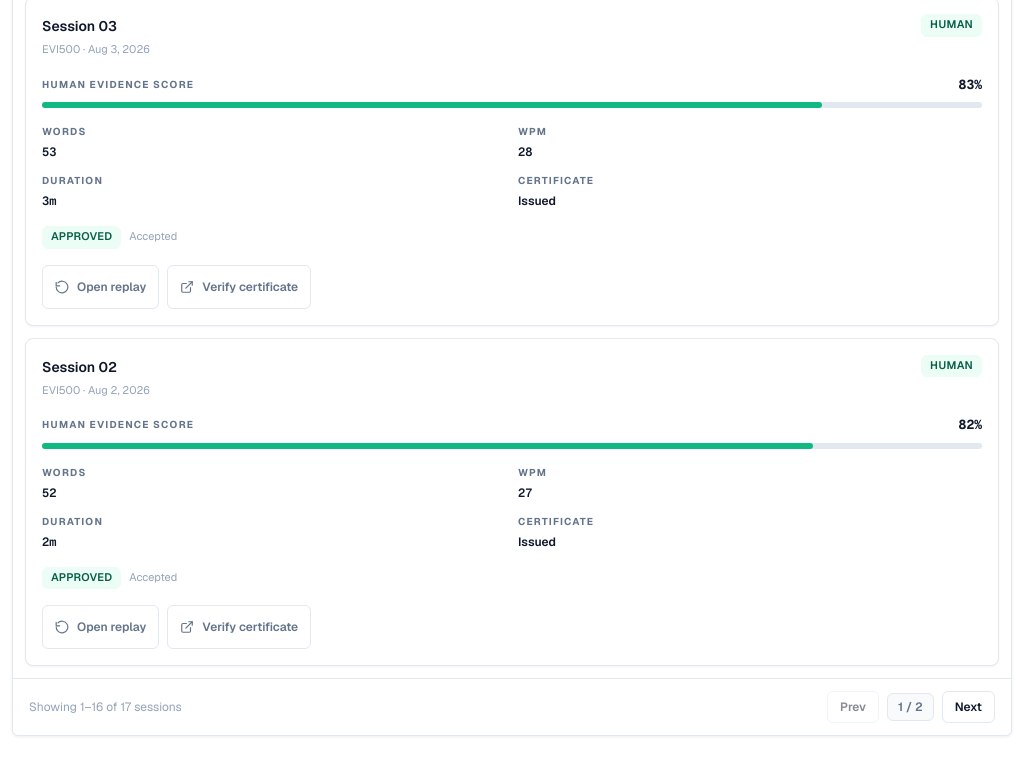
SessionsPage final operational closure › paginates a ledger larger than one page in both directions
(page scrolled)
Expected: the text "Showing 1–16 of 17 sessions" is shown, [29,698,182,716]
Step 1. Click the button "Next" → [968, 707], box [942,691,995,723]
(page scrolled)
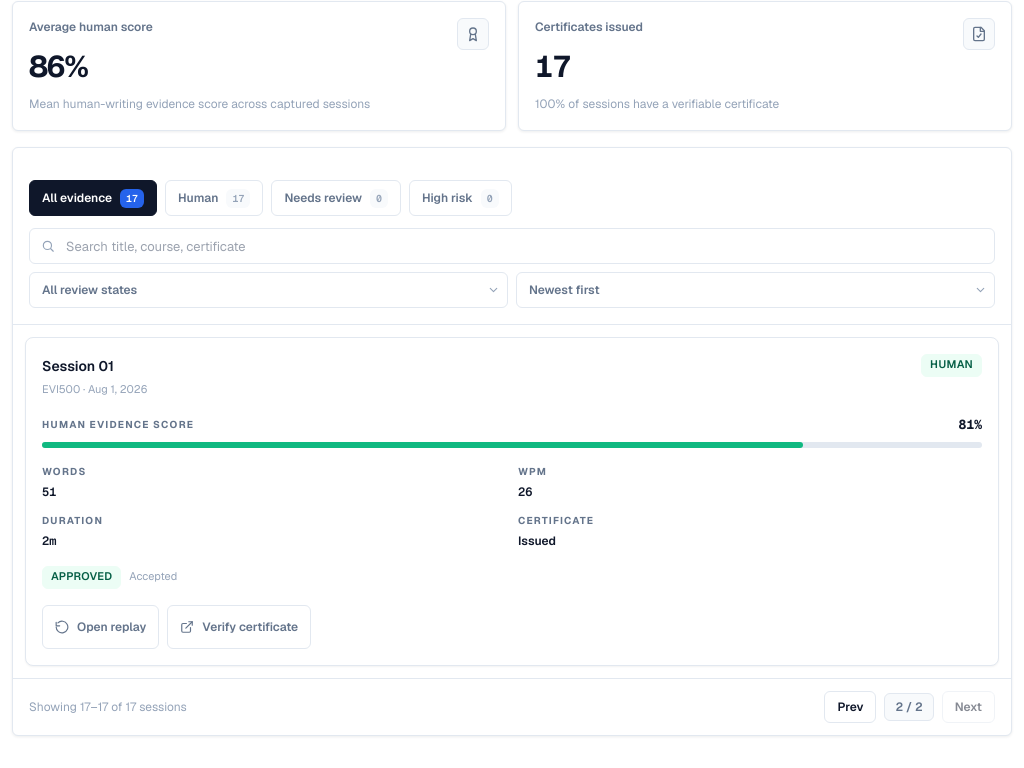
Expected: the text "Showing 17–17 of 17 sessions" is shown, [29,698,187,716]
Expected: the text "2 / 2" is shown, [884,692,934,720]
Step 2. Click the button "Prev" → [850, 706], box [824,690,876,722]
(page scrolled)
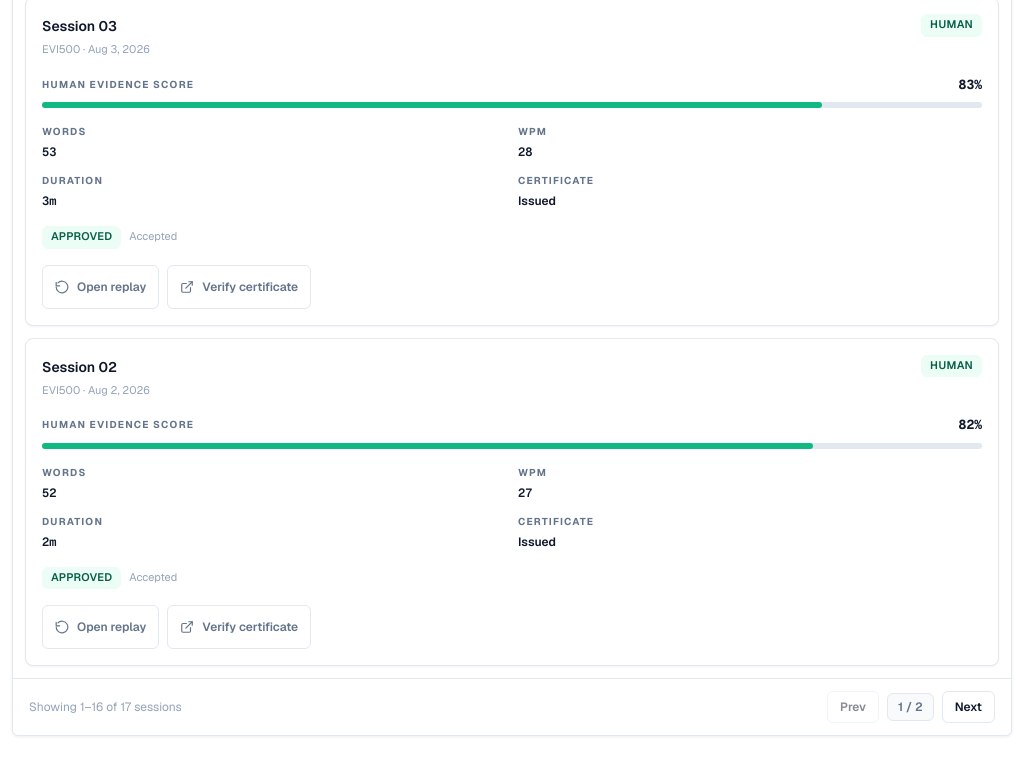
Expected: the text "Showing 1–16 of 17 sessions" is shown, [29,698,182,716]
Expected: the text "1 / 2" is shown, [887,693,934,721]
